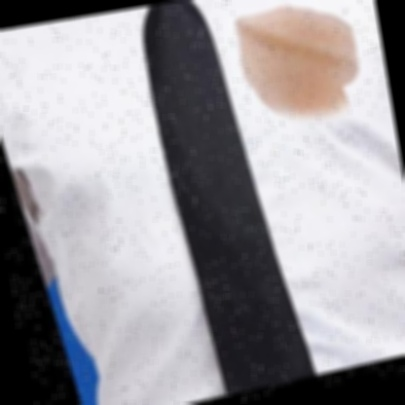coffee: (233, 0, 367, 128)
